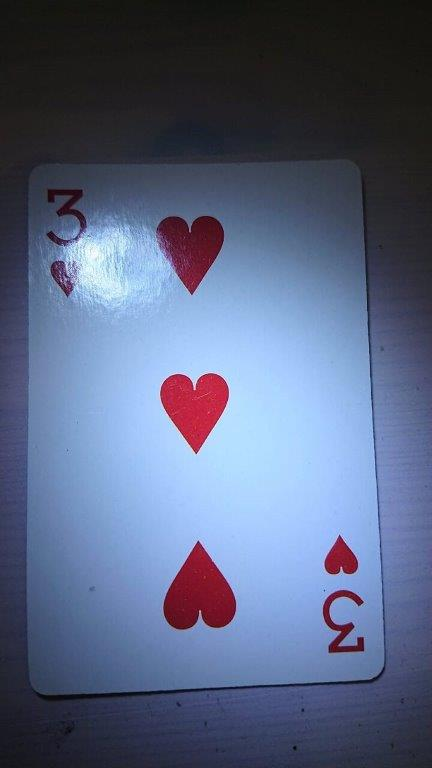3H: (24, 157, 386, 698)
